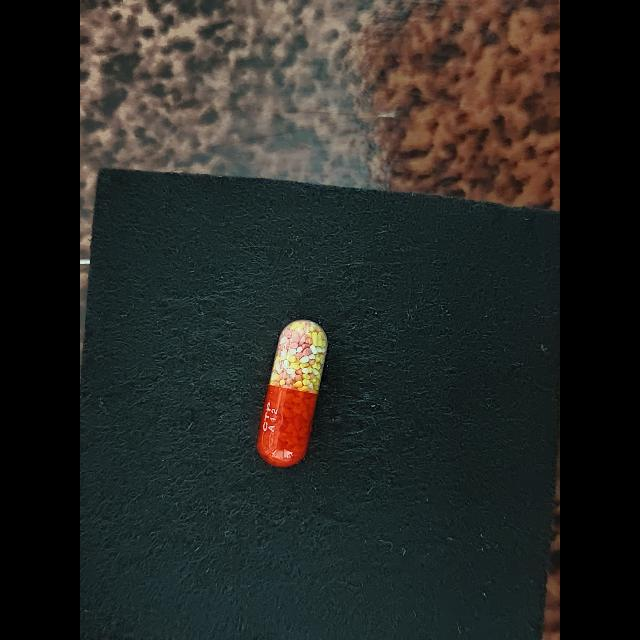Intact Capsule: (256, 319, 328, 467)
